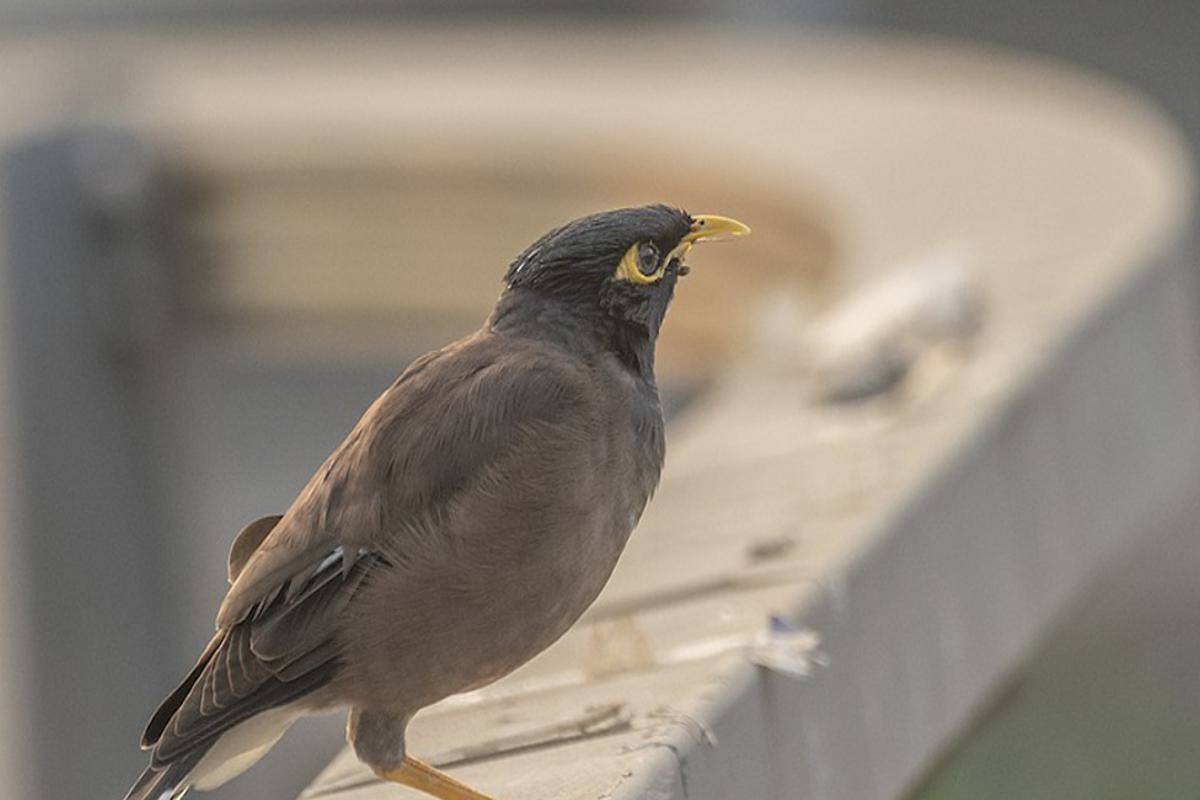myna: (179, 156, 800, 773)
